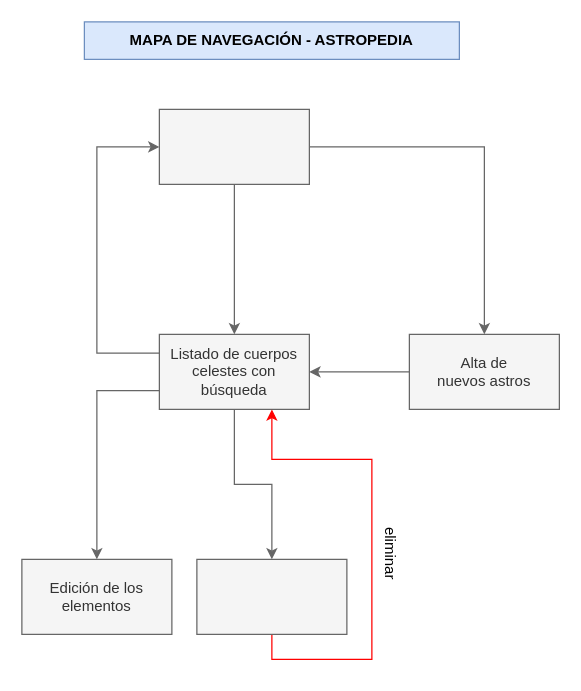
Some shapes in this 581 by 691 pixel diagram are drawn without their labels. The shapes that lost their labels are listed below. From the top down, each one's centre as x and y in pixels, then its label:
At point (233, 146): "Página Inicio".
At point (271, 596): "Consulta de los cuerpos celestes".
